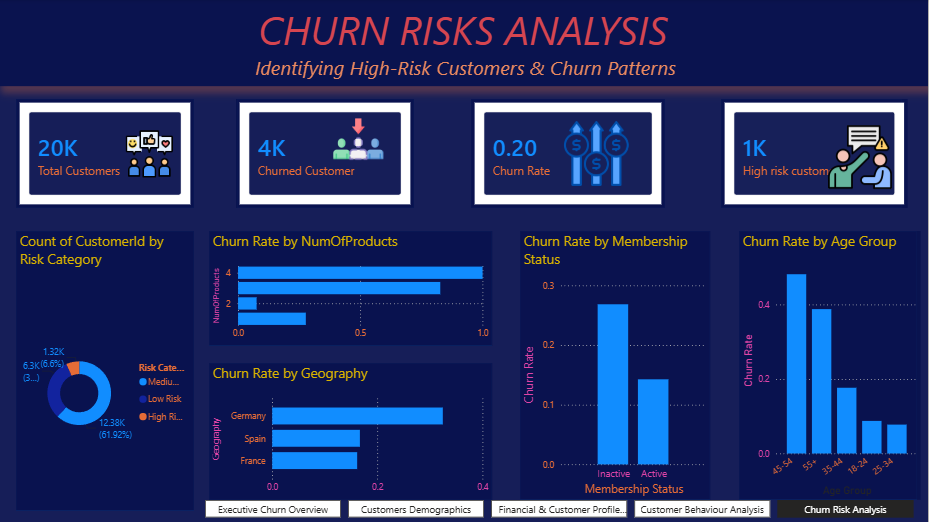

This screenshot's page, from the dashboard's own definition file:
{"tool":"powerbi","page":{"name":"Churn Risk Analysis","canvas":[1280,720],"ordinal":4},"visuals":[{"type":"textbox","box":[0,0,1280,119.7],"z":0},{"type":"shape","box":[24.8,137.6,245,150],"z":1000},{"type":"shape","box":[328.9,137.6,243.6,150],"z":2000},{"type":"shape","box":[651,137.6,267,150],"z":3000},{"type":"shape","box":[995.1,137.6,249.1,150],"z":4000},{"type":"cardVisual","fields":{"Data":["ALL MEASURE.Total Customers"]},"box":[24.8,137.6,245,150],"z":5000},{"type":"cardVisual","fields":{"Data":["ALL MEASURE.Churned Customer"]},"box":[327.6,137.6,245,150],"z":6000},{"type":"cardVisual","fields":{"Data":["ALL MEASURE.Churn Rate"]},"box":[651,137.6,267,150],"z":7000},{"type":"cardVisual","fields":{"Data":["ALL MEASURE.High risk customer"]},"box":[995.1,137.6,257.4,150],"z":8000},{"type":"shape","box":[24.8,319.3,245,385.4],"z":9000},{"type":"shape","box":[1019.9,319.3,245,370.2],"z":10000},{"type":"shape","box":[290.4,319.3,389.5,158.3],"z":11000},{"type":"shape","box":[290.4,501,389.5,188.6],"z":12000},{"type":"donutChart","fields":{"Category":["churn_modelling_db.Risk Category"],"Y":["CountNonNull(churn_modelling_db.CustomerId)"]},"box":[24.8,319.3,245,385.4],"z":13000},{"type":"clusteredColumnChart","fields":{"Category":["churn_modelling_db.Age Group"],"Y":["ALL MEASURE.Churn Rate"]},"box":[1019.9,319.3,250.5,370.2],"z":14000},{"type":"barChart","fields":{"Category":["churn_modelling_db.Geography"],"Y":["ALL MEASURE.Churn Rate"]},"box":[290.4,501,389.5,188.6],"z":15000},{"type":"clusteredBarChart","fields":{"Category":["churn_modelling_db.NumOfProducts"],"Y":["ALL MEASURE.Churn Rate"]},"box":[290.4,319.3,389.5,158.3],"z":16000},{"type":"shape","box":[718.5,319.3,261.5,370.2],"z":17000},{"type":"clusteredColumnChart","fields":{"Y":["ALL MEASURE.Churn Rate"],"Category":["churn_modelling_db.Membership Status"]},"box":[718.5,319.3,261.5,370.2],"z":18000},{"type":"image","box":[174.8,170.7,67.4,85.3],"z":19000},{"type":"image","box":[451.4,158.3,89.5,68.8],"z":20000},{"type":"image","box":[744.6,166.5,158.3,92.2],"z":21000},{"type":"image","box":[1142.4,170.7,88.1,93.6],"z":22000},{"type":"pageNavigator","box":[284.9,689.5,980,24.8],"z":23000}]}

Visuals, with their boxes in screenshot pixels (x1, y1, x2, y2), scaled from the page's 1280x720 canvas onto the 929x522 screenshot:
textbox: 0/0/928/87
shape: 18/100/196/209
shape: 239/100/416/209
shape: 472/100/666/209
shape: 722/100/903/209
cardVisual - ALL MEASURE.Total Customers: 18/100/196/209
cardVisual - ALL MEASURE.Churned Customer: 238/100/416/209
cardVisual - ALL MEASURE.Churn Rate: 472/100/666/209
cardVisual - ALL MEASURE.High risk customer: 722/100/909/209
shape: 18/231/196/511
shape: 740/231/918/500
shape: 211/231/493/346
shape: 211/363/493/500
donutChart - churn_modelling_db.Risk Category x CountNonNull(churn_modelling_db.CustomerId): 18/231/196/511
clusteredColumnChart - churn_modelling_db.Age Group x ALL MEASURE.Churn Rate: 740/231/922/500
barChart - churn_modelling_db.Geography x ALL MEASURE.Churn Rate: 211/363/493/500
clusteredBarChart - churn_modelling_db.NumOfProducts x ALL MEASURE.Churn Rate: 211/231/493/346
shape: 521/231/711/500
clusteredColumnChart - ALL MEASURE.Churn Rate x churn_modelling_db.Membership Status: 521/231/711/500
image: 127/124/176/186
image: 328/115/393/165
image: 540/121/655/188
image: 829/124/893/192
pageNavigator: 207/500/918/518
